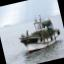fishing boat: (14, 8, 64, 57)
